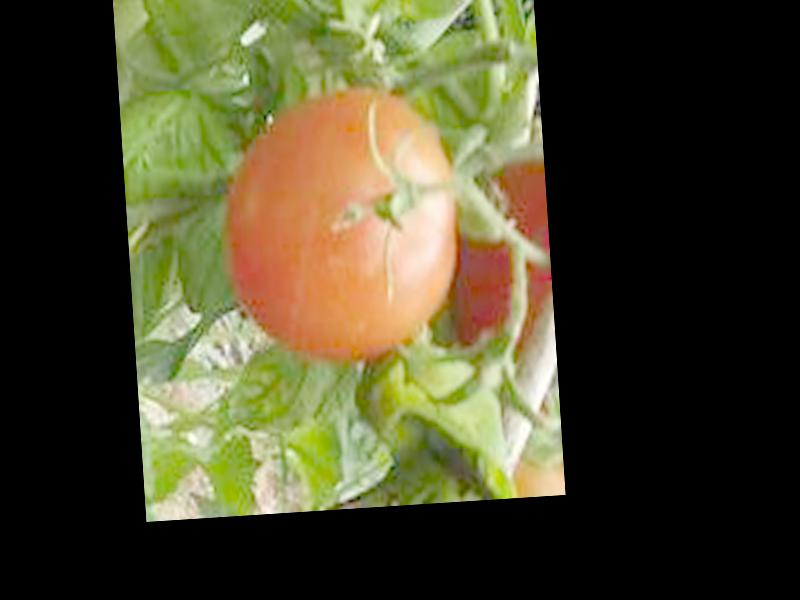Tomato: (224, 85, 466, 364)
